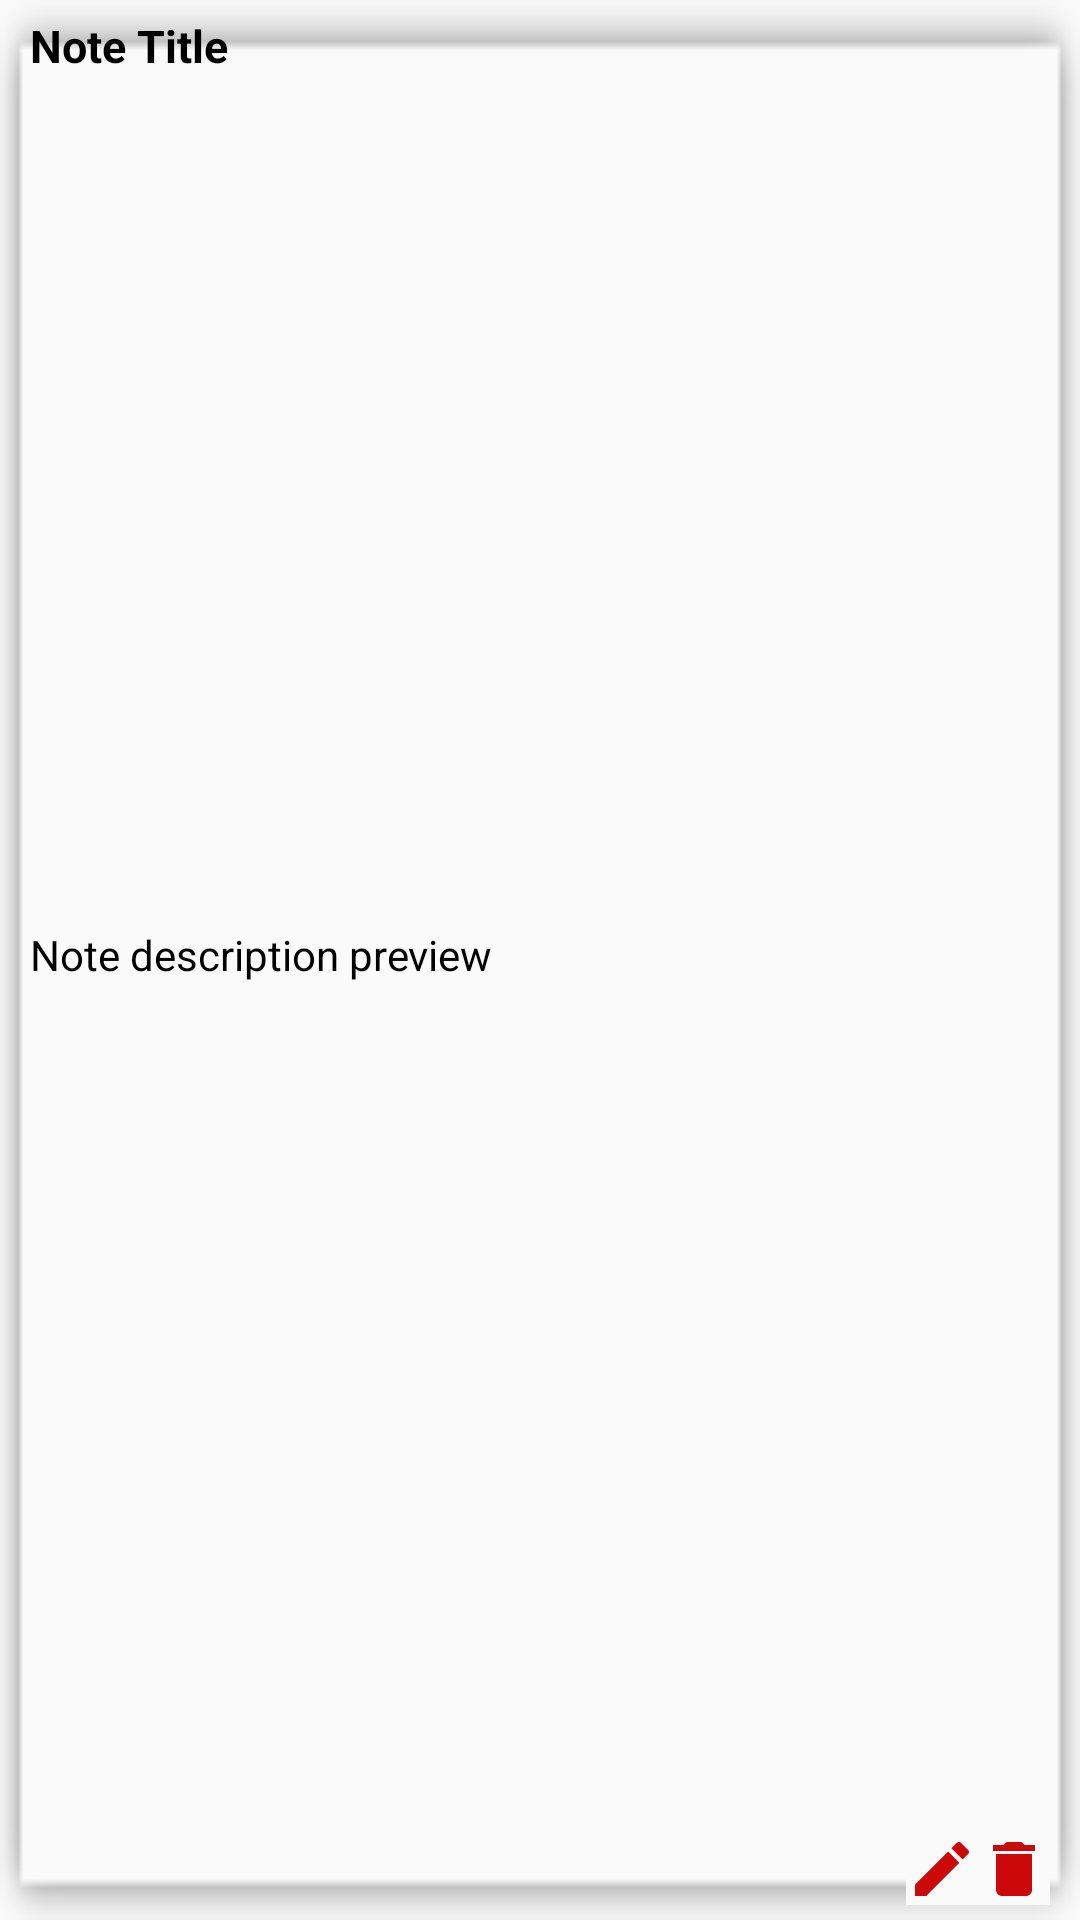

Point at icon controls on the screen. Image size 1080w x 1920h, points as (x,y).
delete: (1014,1869)
edit: (942,1869)
